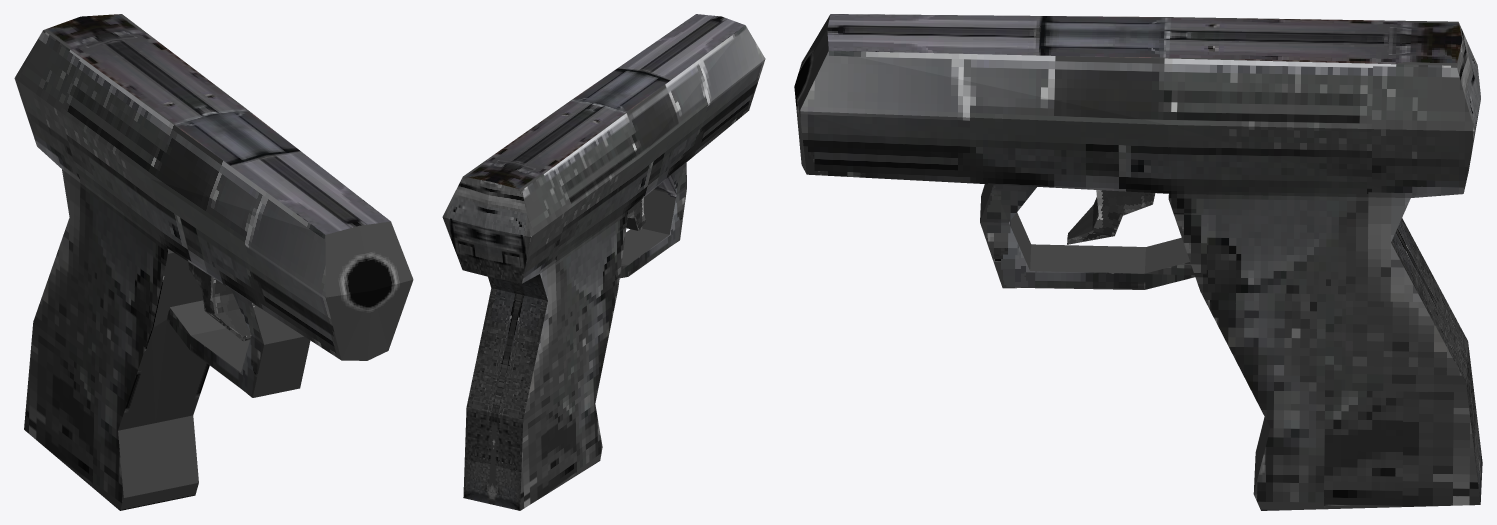
Rendered from pistol_00.glb.
3 views of the same model, side by side, from view 1: azimuth 30°, elevation 25°; view 2: azimuth 150°, elevation 25°; view 3: azimuth 270°, elevation 25° (orthographic). The views are drawn at different scales.
Parts seen in each view (by area): view 1: pistol; view 2: pistol; view 3: pistol.
Part boxes in pixels (x1,y1,x2,y2): pistol: [14, 14, 413, 510]; pistol: [442, 14, 765, 510]; pistol: [794, 14, 1482, 510].
Bounding box in the file's own units: 0.6189 × 2.1 × 2.82.
1 material, 1 textured.
